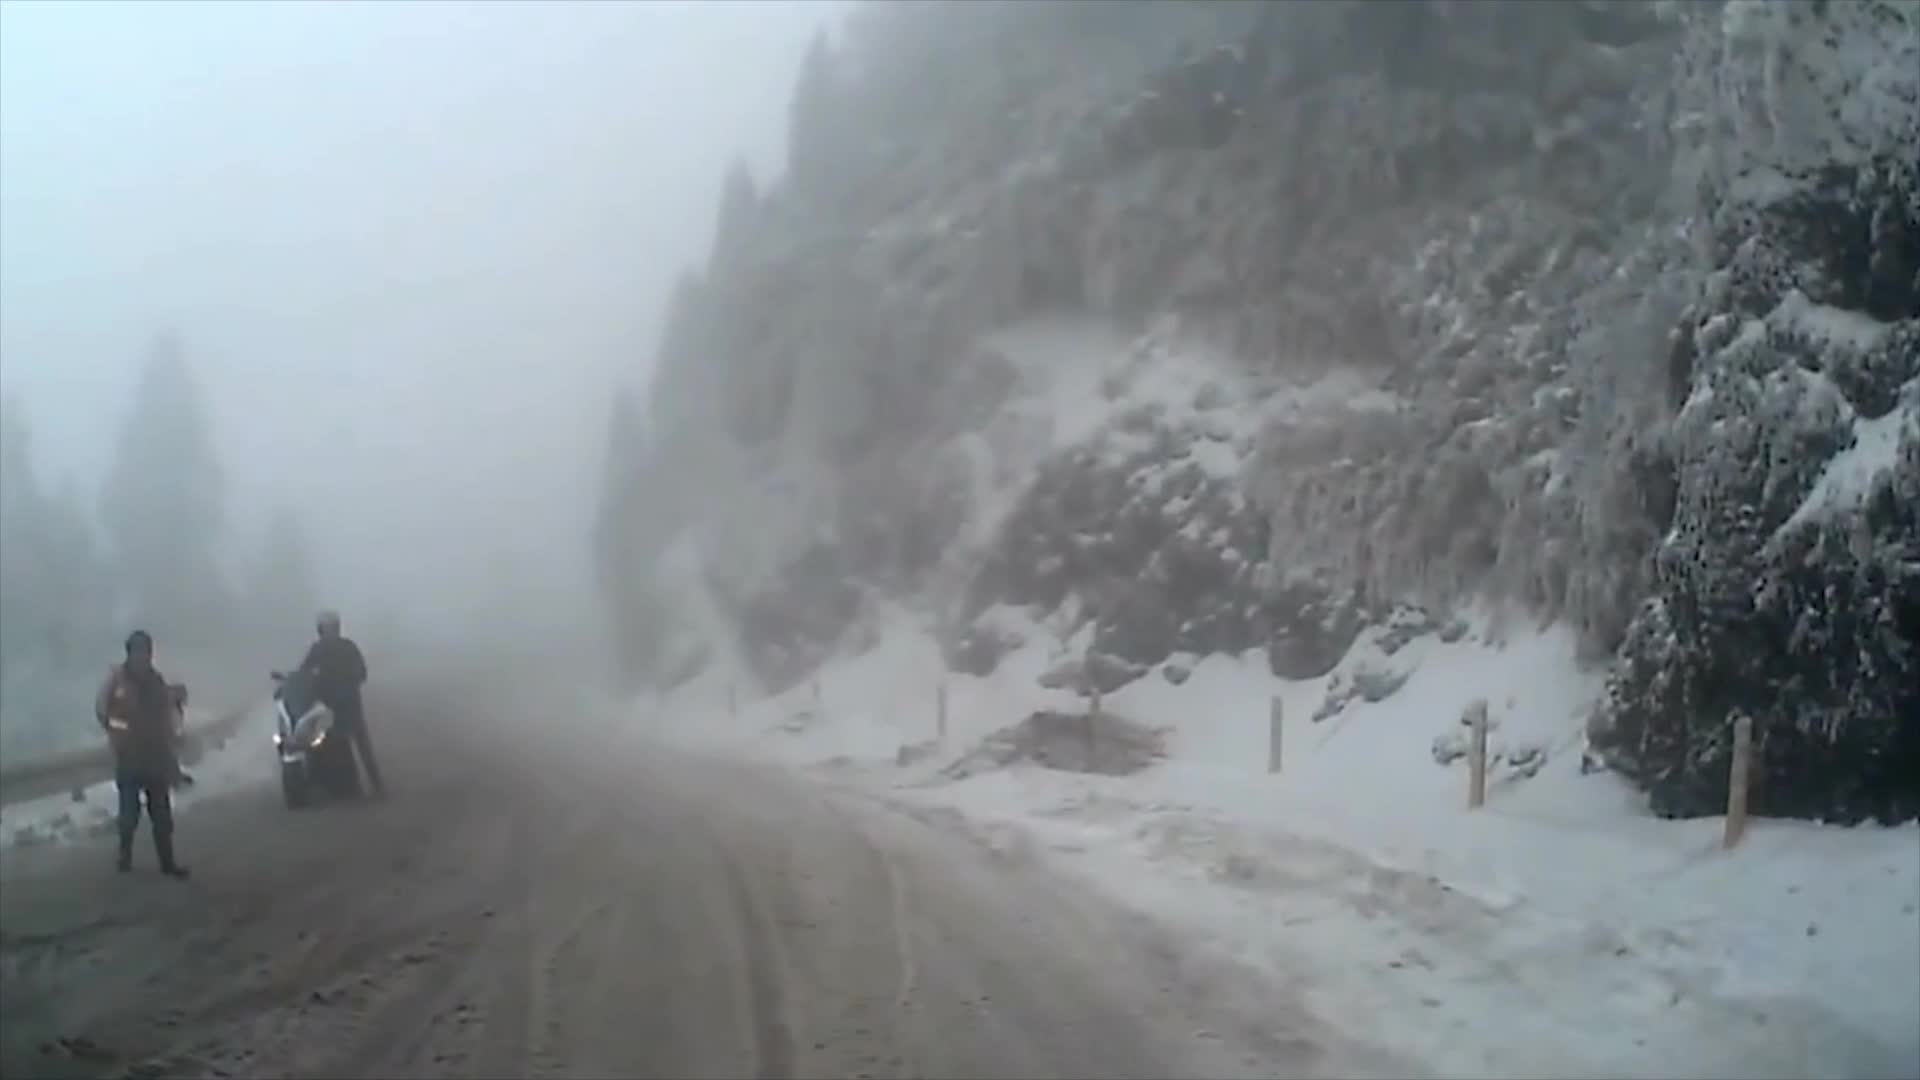pedestrian: (94, 631, 193, 881), (285, 609, 395, 813)
